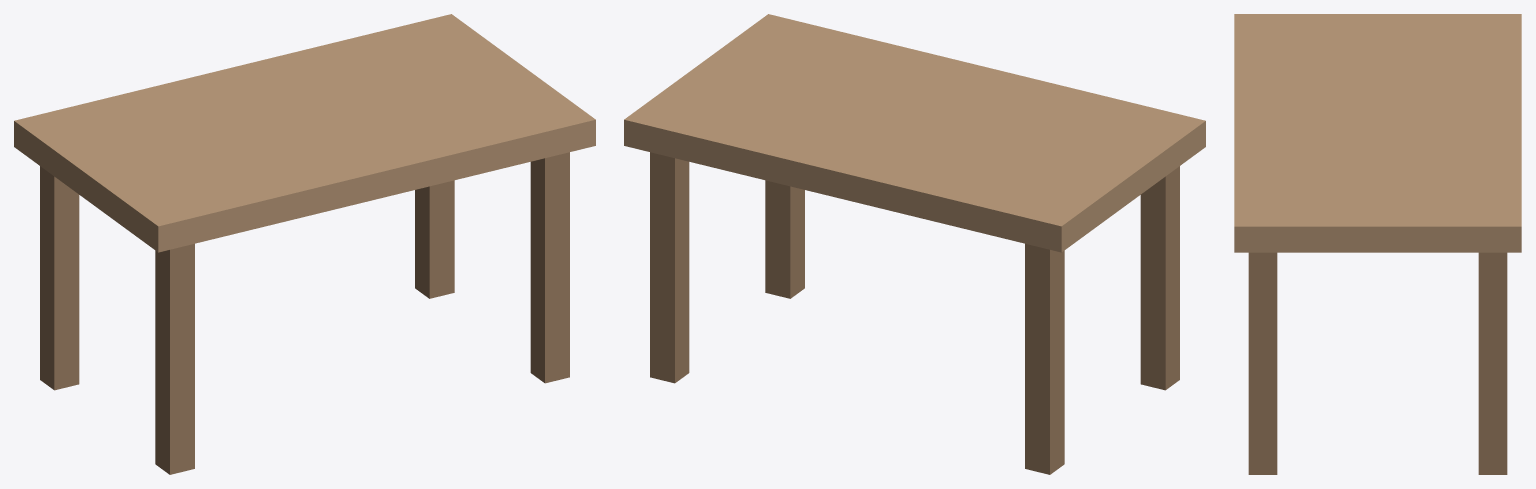
File: mesa.glb
The picture shows the model from 3 angles, left to right: view 1: azimuth 30°, elevation 25°; view 2: azimuth 150°, elevation 25°; view 3: azimuth 270°, elevation 25°; orthographic projection.
Parts seen in each view (by area): view 1: mesa; view 2: mesa; view 3: mesa.
Part boxes in pixels (box(x1,y1,x2,y2)): mesa: box(14, 14, 595, 474); mesa: box(624, 14, 1205, 474); mesa: box(1234, 14, 1521, 474).
Bounding box in the file's own units: 1.4 × 0.79 × 0.8.
